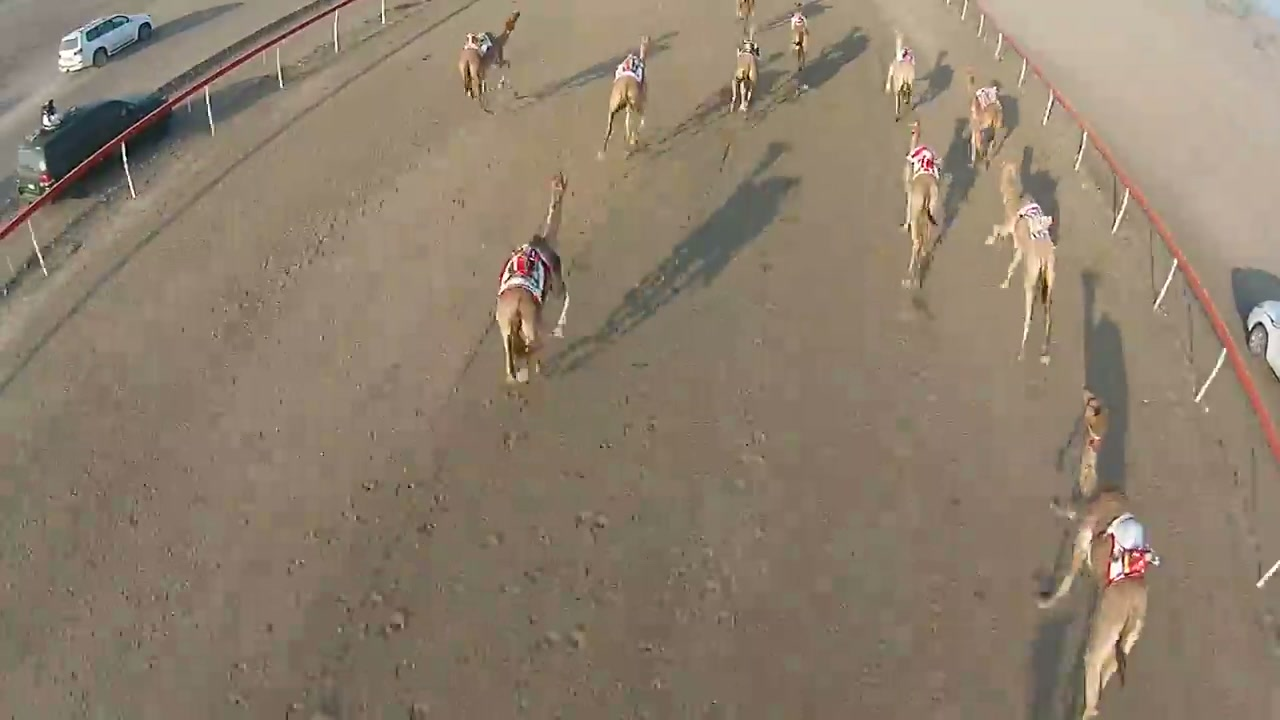animal_foot_print: (306, 433, 677, 719)
